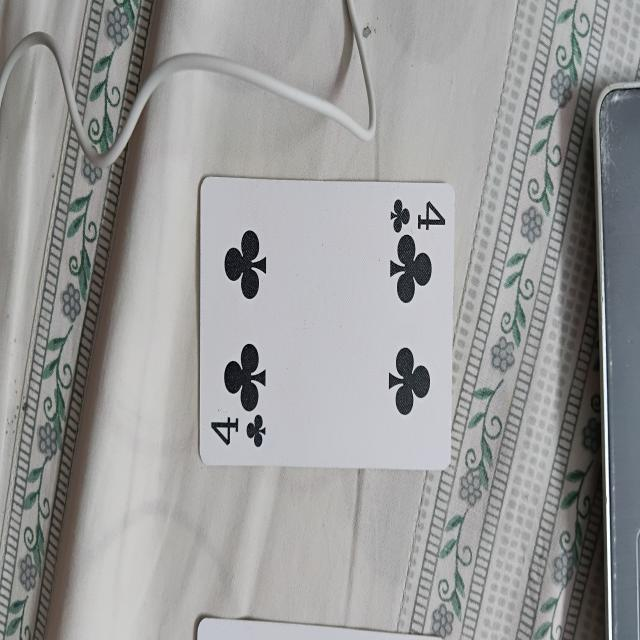4C: (199, 177, 452, 470)
